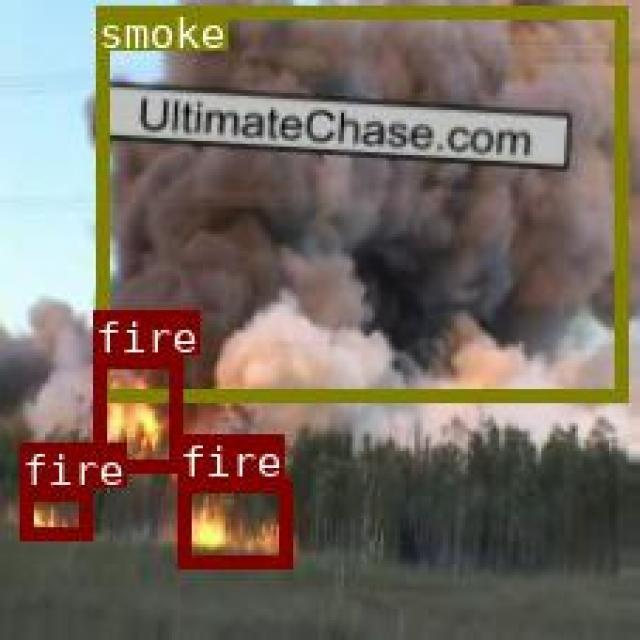fire: (91, 355, 180, 470), (176, 480, 289, 565), (18, 487, 90, 536)
smoke: (95, 5, 625, 398)
